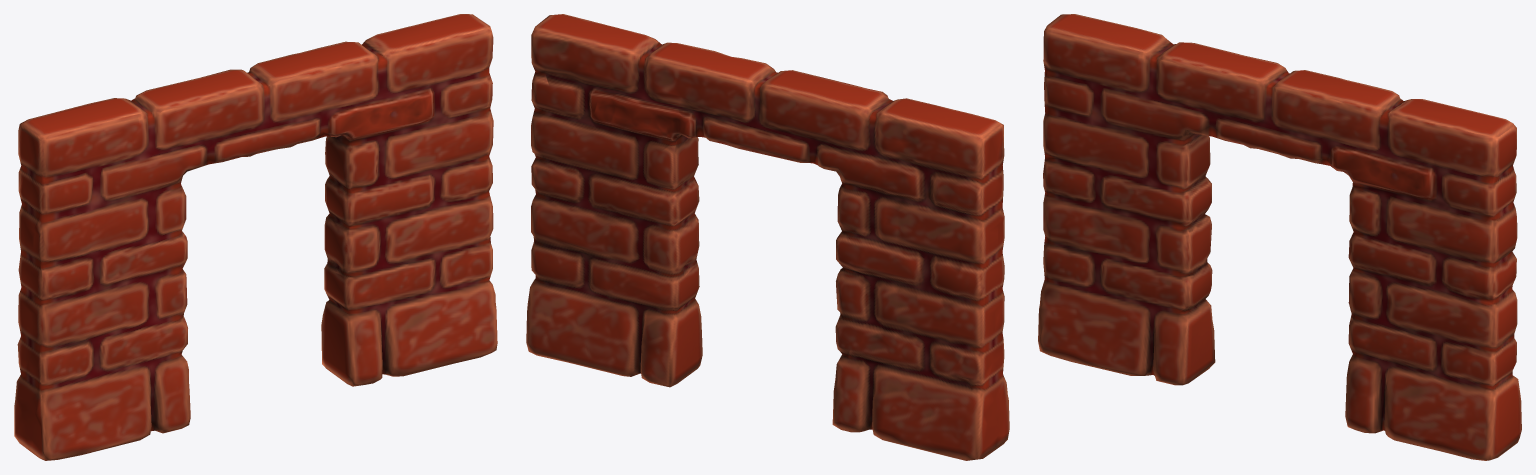
The model's file is WallSeg3.fbx.
3 renders of one model, left to right at view 1: azimuth 30°, elevation 25°; view 2: azimuth 150°, elevation 25°; view 3: azimuth 330°, elevation 25°, orthographic.
Parts seen in each view (by area): view 1: WallSeg3_Lo; view 2: WallSeg3_Lo; view 3: WallSeg3_Lo.
Boxes of the visible parts, x1,y1,x2,y2 form: WallSeg3_Lo: [14, 14, 497, 460]; WallSeg3_Lo: [526, 14, 1009, 460]; WallSeg3_Lo: [1038, 14, 1521, 460].
Bounding box in the file's own units: 1108 × 754 × 143.
